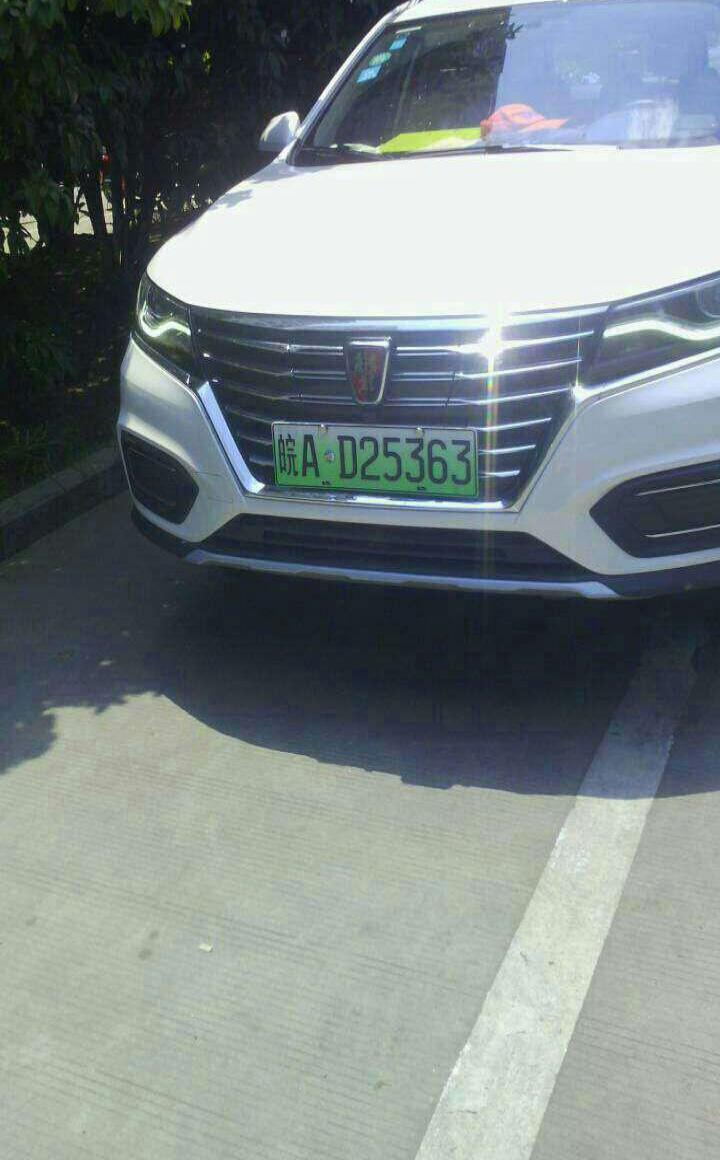car_id: (271, 424, 475, 496)
